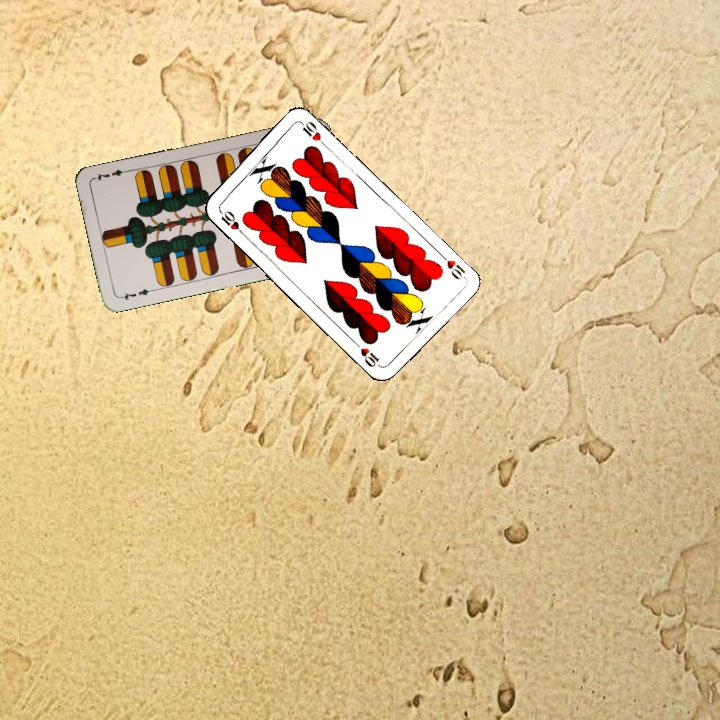E7: (116, 284, 156, 303)
H10: (435, 248, 468, 282), (215, 205, 247, 238)
